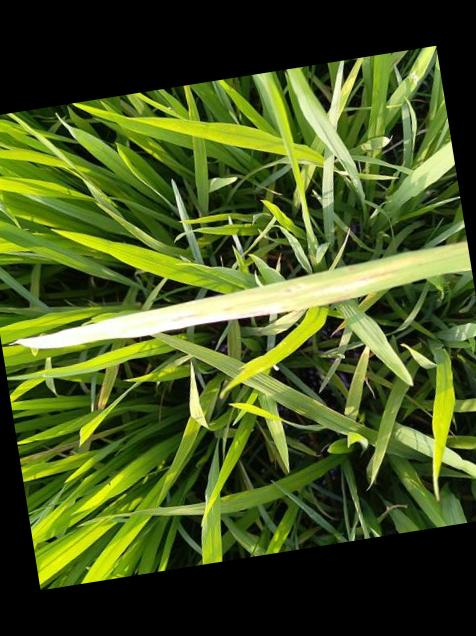Leaf Streak: (15, 240, 469, 349)
